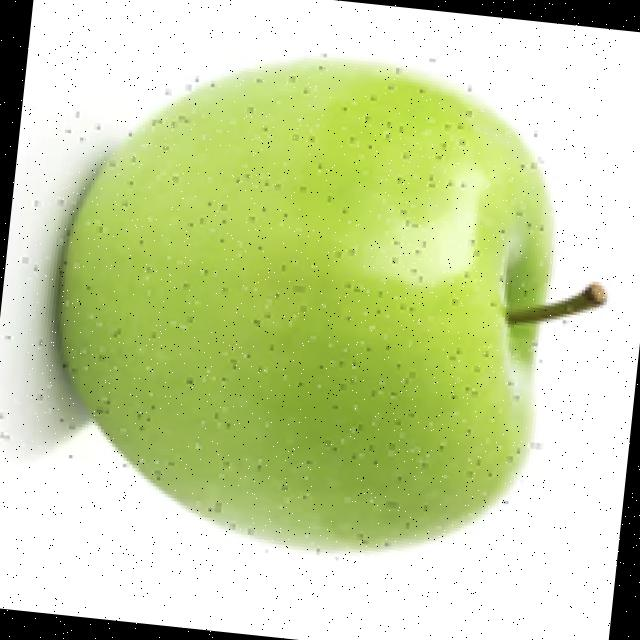apple: (0, 50, 612, 560)
